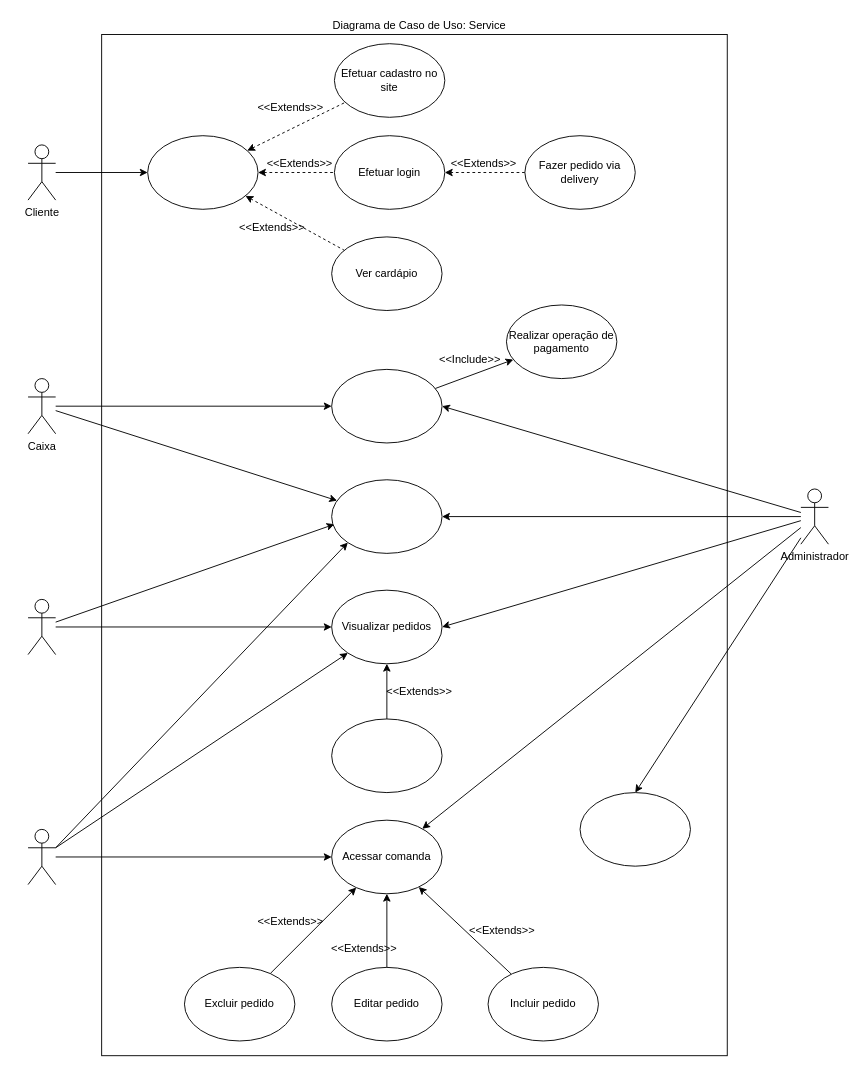
This 865x1072 diagram has some shape labels left out. The box of each missing label's shape, as (x1, y1, x2, y2) in pixels:
Acessar site: (147, 135, 258, 209)
Cozinheiro: (27, 598, 56, 655)
Efetuar login no sistema: (331, 479, 442, 553)
Finalizar comanda: (331, 368, 442, 443)
Garçom: (27, 828, 56, 885)
Mudar status do pedido: (331, 718, 442, 793)
Visualizar relatório de lucros: (579, 792, 690, 866)
